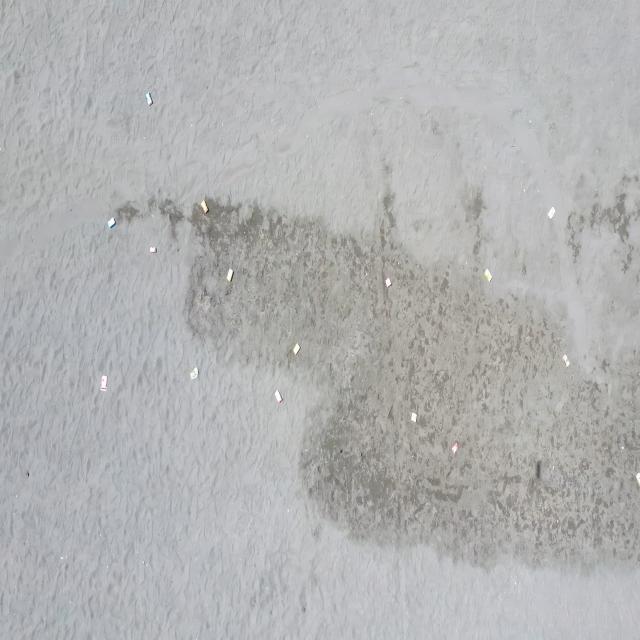Garbage: (273, 389, 280, 403), (535, 460, 540, 479), (484, 267, 491, 280), (200, 199, 207, 212), (107, 216, 115, 227), (547, 207, 555, 218), (451, 440, 457, 453), (145, 91, 151, 104), (226, 268, 232, 281), (384, 276, 391, 287), (100, 375, 105, 390), (191, 369, 198, 379), (562, 353, 567, 366), (292, 344, 299, 353), (409, 412, 415, 422), (148, 246, 156, 252), (635, 472, 639, 484)
